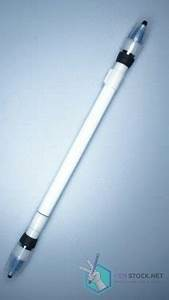pen: (3, 18, 148, 283)
